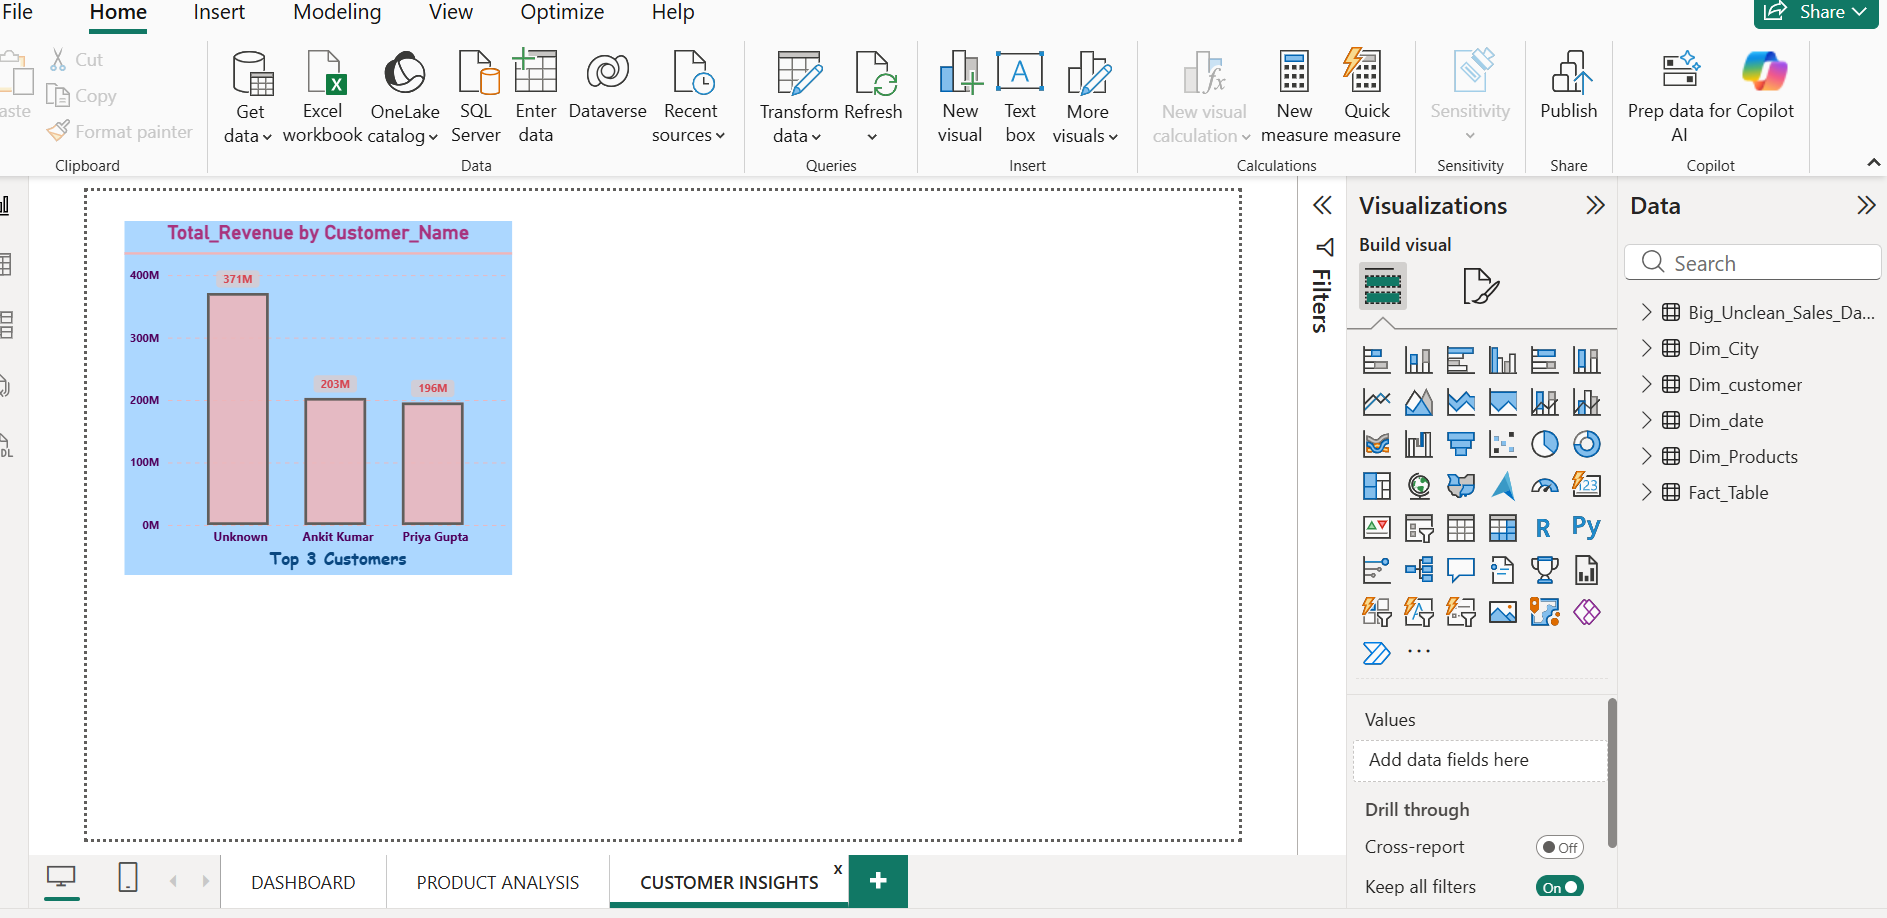

What the dashboard file says about the page in this screenshot:
{"tool":"powerbi","page":{"name":"CUSTOMER INSIGHTS","canvas":[1280,720],"ordinal":2},"visuals":[{"type":"clusteredColumnChart","fields":{"Category":["Dim_customer.Customer_Name"],"Y":["Fact_Table.Total_Revenue"]},"box":[41.6,34,430.9,393.1],"z":0}]}

Visuals, with their boxes on the page's 1280x720 design canvas (x1, y1, x2, y2). These are canvas units, not pixel positions in the 1887x918 screenshot, which may show the page scaled, cropped or inside an application window:
clusteredColumnChart - Dim_customer.Customer_Name x Fact_Table.Total_Revenue: 42, 34, 472, 427
